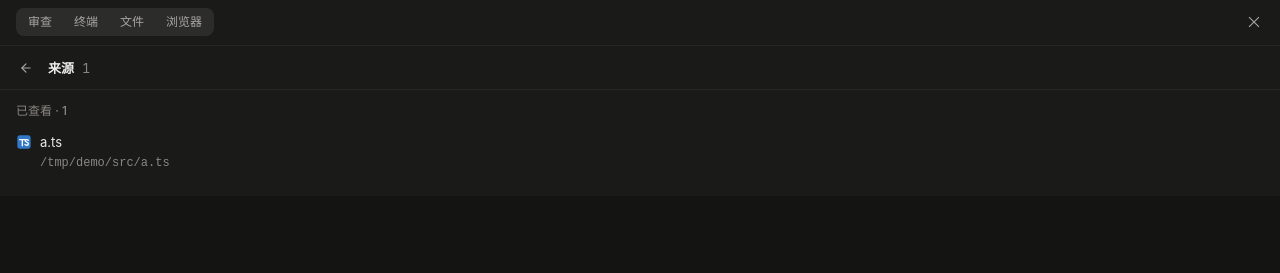
Test case: WorkspacePanel › shows the 来源 view over the pane used last, which stays chosen (UI-S13)
Expected: the element showing "来源 1 已查看 · 1 a.ts /tmp/demo/src/a.ts" is shown, [0,46,1279,196]
Expected: the number of tabs is 4, [18,10,62,34]; [64,10,108,34]; [110,10,154,34]; [156,10,212,34]
Click the button named "返回". click: click(26, 68)
box: [12,54,40,82]
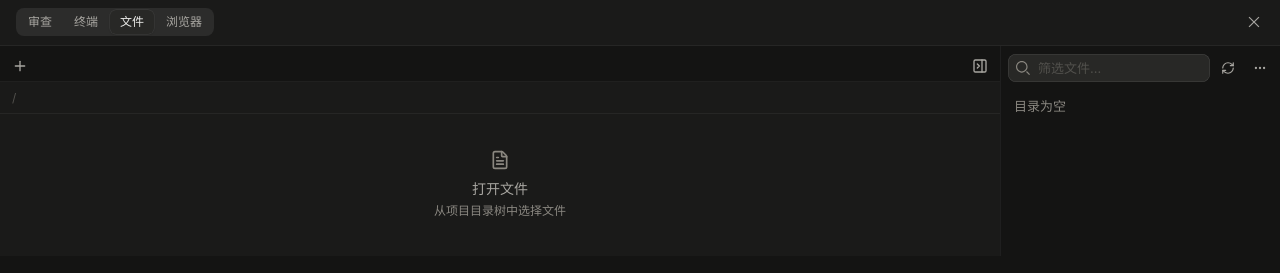
Expected: the element with class "files-pane" is shown
